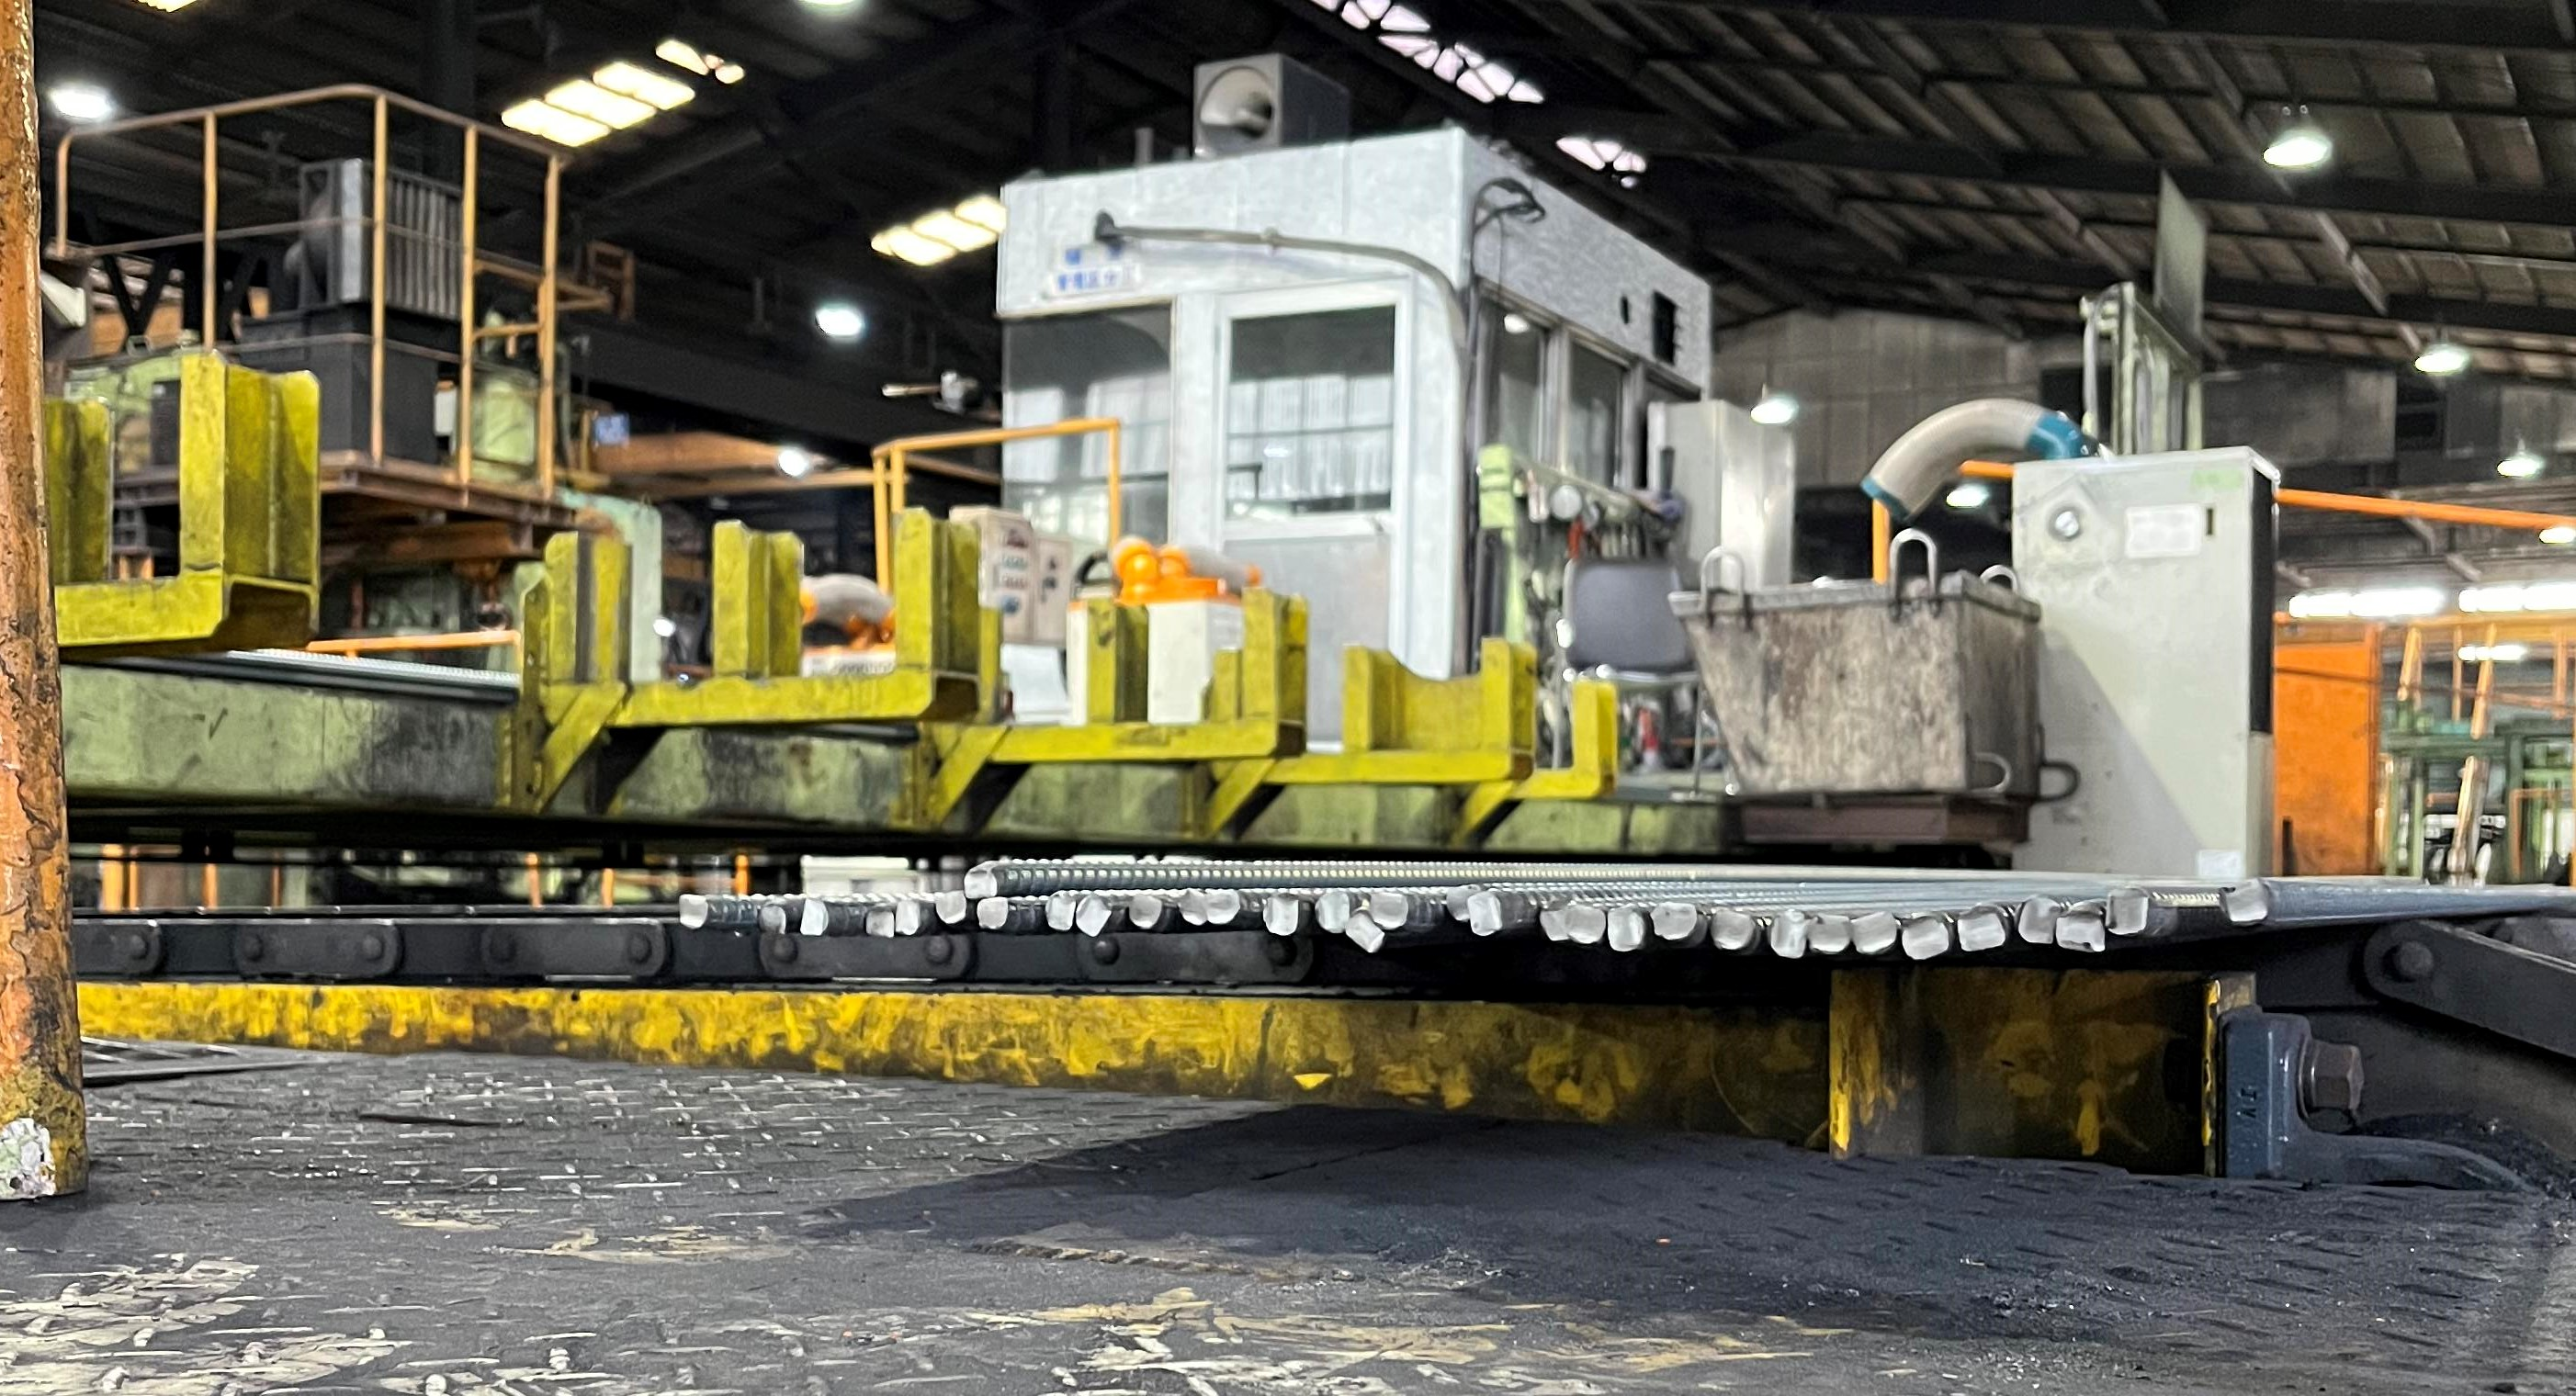rod: (1955, 904, 2007, 956), (1900, 915, 1952, 963), (2053, 909, 2107, 956), (2103, 887, 2151, 937), (1708, 908, 1759, 954), (2222, 879, 2272, 925), (2015, 894, 2060, 946), (1850, 909, 1898, 954), (1606, 903, 1646, 956), (1807, 911, 1854, 956), (1649, 901, 1699, 942), (1766, 909, 1806, 961), (1345, 908, 1386, 956), (1563, 903, 1606, 946), (1365, 889, 1410, 930), (1312, 889, 1352, 935), (1467, 891, 1505, 939), (1075, 892, 1113, 937), (1262, 892, 1300, 937), (1444, 882, 1482, 923), (1042, 889, 1076, 932), (1539, 899, 1573, 942), (1126, 891, 1162, 930), (961, 865, 999, 901), (1207, 885, 1242, 925), (932, 889, 968, 925), (676, 891, 708, 930), (798, 896, 829, 937), (894, 894, 922, 937), (863, 904, 896, 939), (975, 897, 1009, 930), (1176, 889, 1207, 925), (757, 904, 788, 937)
